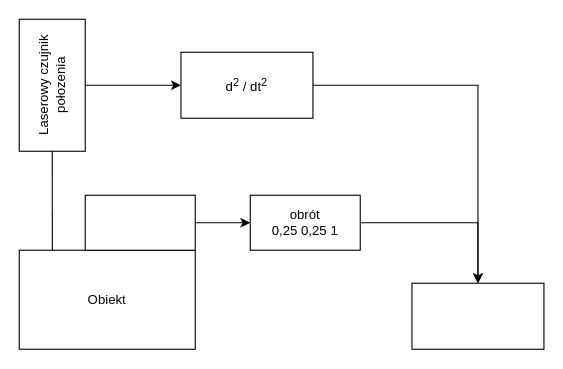
The diagram is 563 pixels wide and 369 high, and some of its shapes have lost their labels. Each missing label, with the box of its shape:
Akcelerometr: (84, 194, 195, 250)
Analiza danych: (411, 282, 544, 349)
